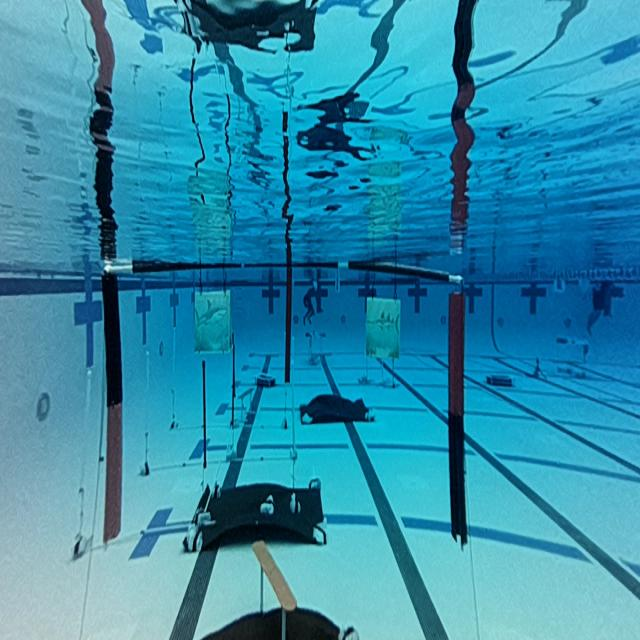pointed_nose: (366, 297, 401, 358)
round_nose: (192, 287, 233, 360)
